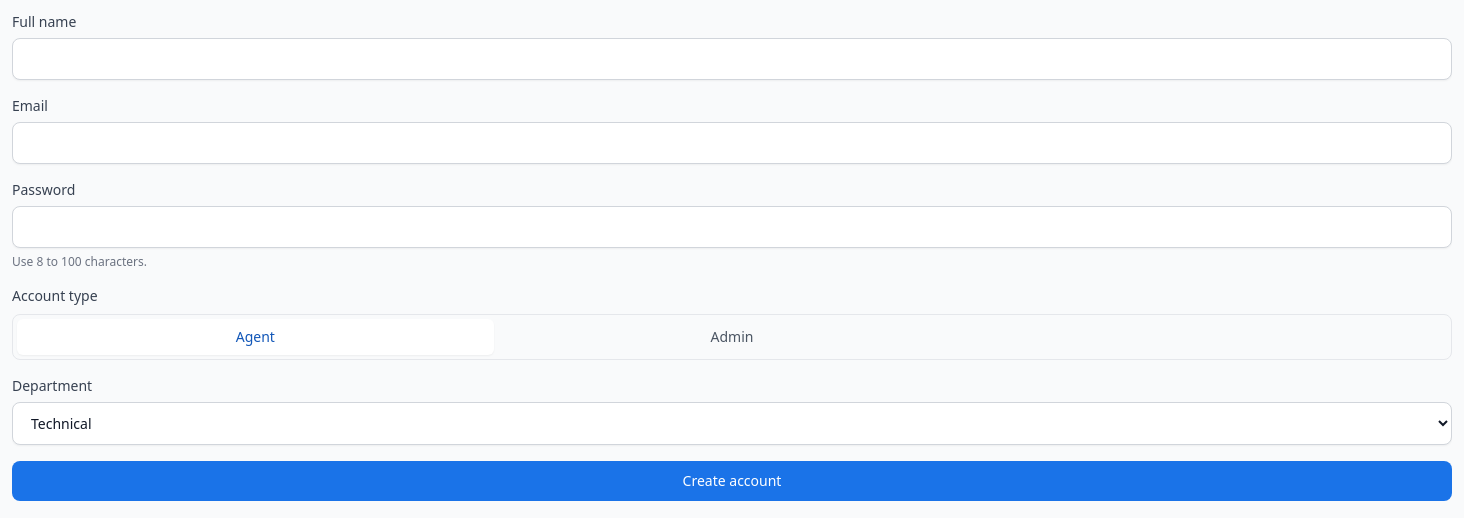
CreateUserForm › shows department only for agents
Expected: the dropdown labelled "Department" shows "Technical", [12, 402, 1452, 445]
Click the radio button labelled "Admin". click: (732, 337)
box: [494, 319, 970, 355]
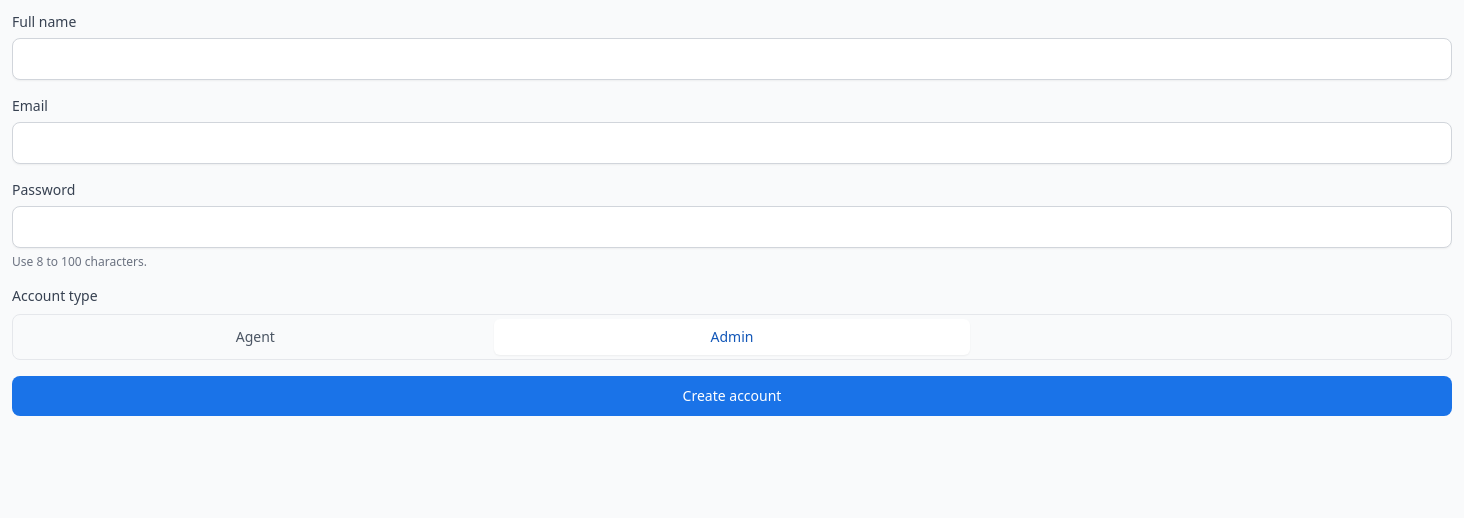
Result: the label labelled "Department" is gone
Click the radio button labelled "Agent". click: (255, 337)
box: [17, 319, 494, 355]
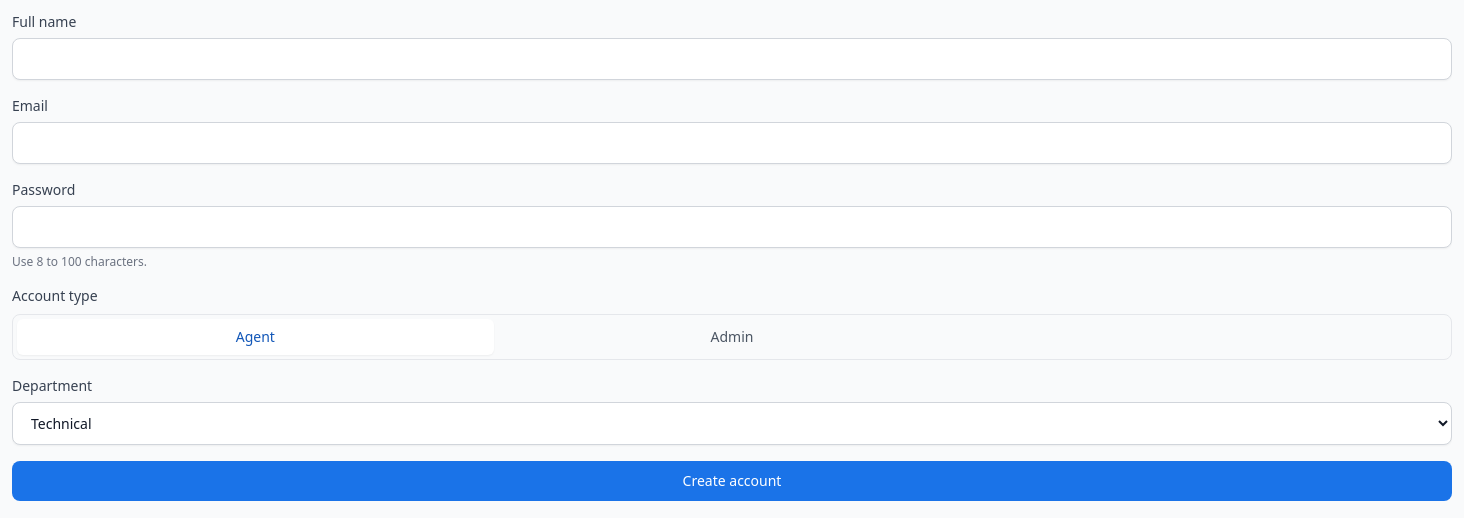
Result: the dropdown labelled "Department" shows "Technical" at [12, 402, 1452, 445]
